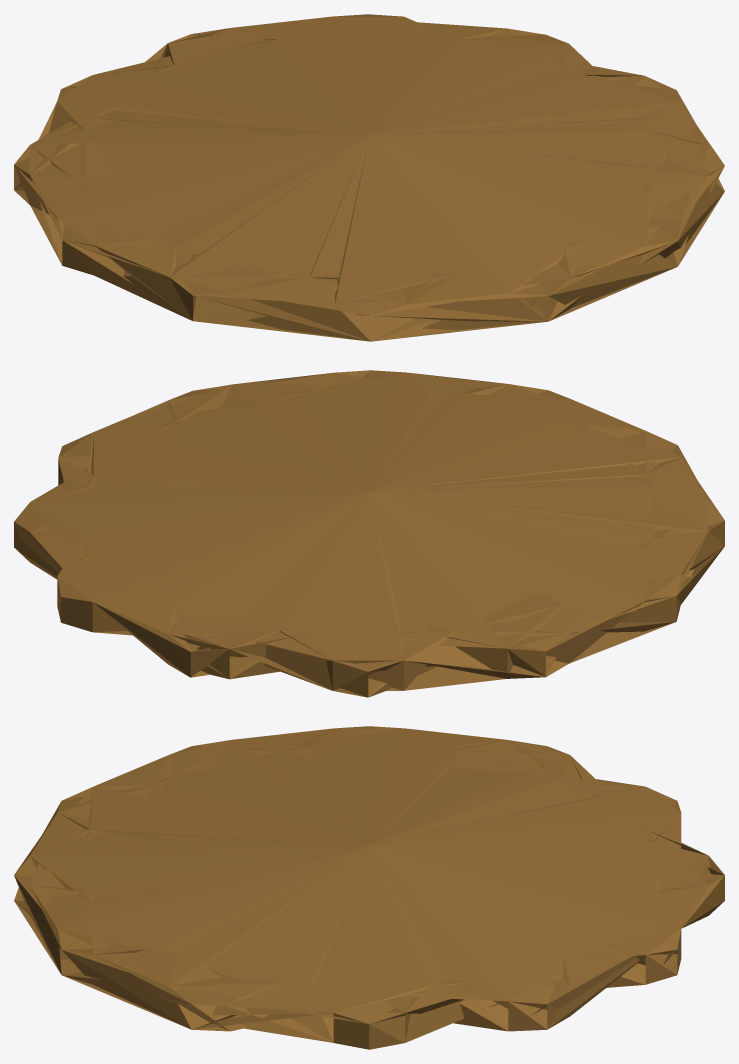
Rendered from S.S._Dolphin_Gluon_Drive_cog_1.obj.
3 renders of one model, top to bottom at view 1: azimuth 30°, elevation 25°; view 2: azimuth 150°, elevation 25°; view 3: azimuth 270°, elevation 25°, orthographic.
Visible parts, largest first — view 1: S.S._Dolphin_Gluon_Drive_cog_1; view 2: S.S._Dolphin_Gluon_Drive_cog_1; view 3: S.S._Dolphin_Gluon_Drive_cog_1.
Part boxes in pixels (<box>): S.S._Dolphin_Gluon_Drive_cog_1: <box>14,14,724,341</box>; S.S._Dolphin_Gluon_Drive_cog_1: <box>14,370,724,697</box>; S.S._Dolphin_Gluon_Drive_cog_1: <box>14,726,724,1049</box>.
Size of the model in its own units: 2.89 by 0.2502 by 2.92.
